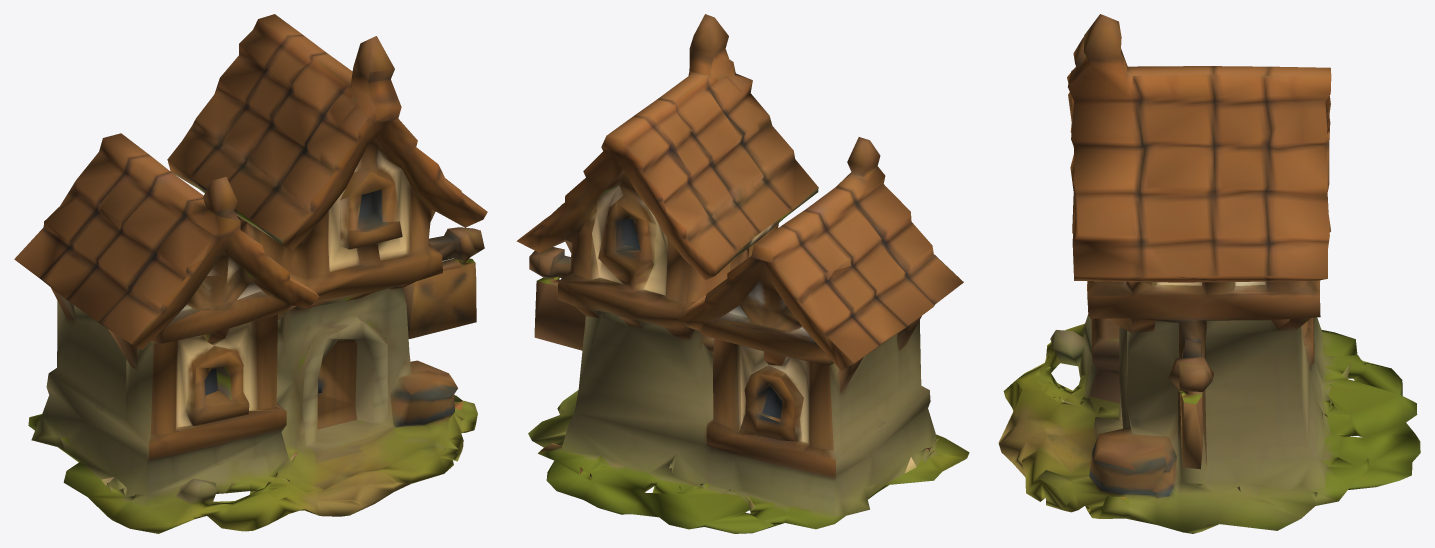
The model's file is fletchers_hall.glb.
The picture shows the model from 3 angles, left to right: view 1: azimuth 30°, elevation 25°; view 2: azimuth 150°, elevation 25°; view 3: azimuth 270°, elevation 25°; orthographic projection. The views are drawn at different scales.
Parts seen in each view (by area): view 1: tmpkxlk4c52.ply; view 2: tmpkxlk4c52.ply; view 3: tmpkxlk4c52.ply.
Boxes of the visible parts, left/top/right/bottom form: tmpkxlk4c52.ply: left=14, top=14, right=487, bottom=533; tmpkxlk4c52.ply: left=516, top=14, right=969, bottom=533; tmpkxlk4c52.ply: left=998, top=14, right=1420, bottom=533.
Bounding box in the file's own units: 1.85 × 1.79 × 1.46.
1 material, 1 textured.
